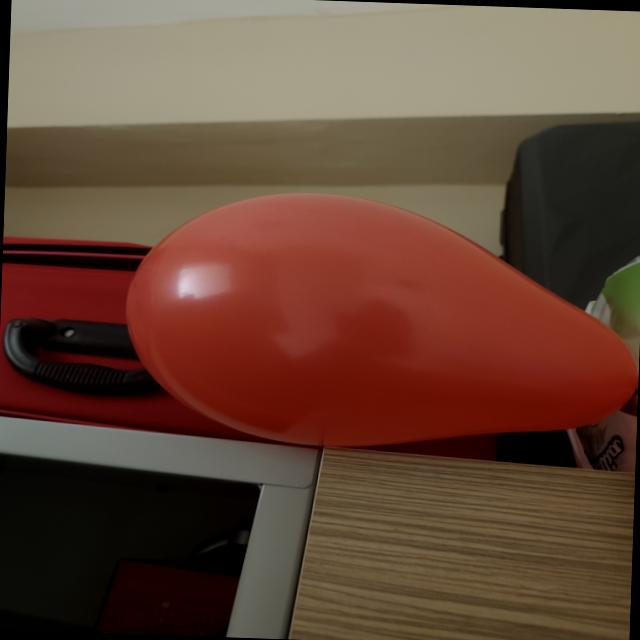balloon: (127, 193, 637, 446)
